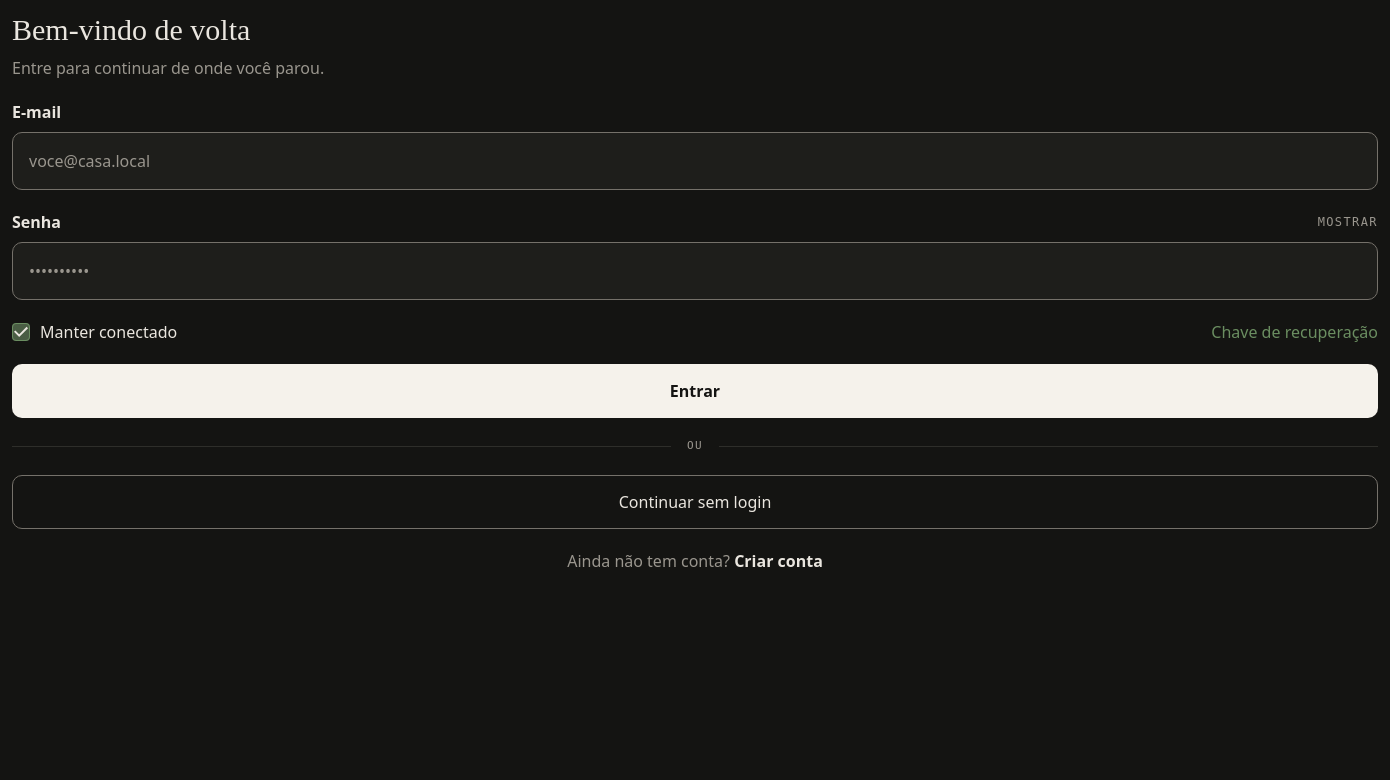
Test case: AuthForm — uso descuidado › o subtítulo só aparece quando pedido e acompanha o modo
The width and height of the screenshot is (1390, 780).
Expected: the text "Entre para continuar de onde você parou." is shown, [12,57,324,79]
Click the button "Criar conta" at (778, 560), box [734,548,823,572]
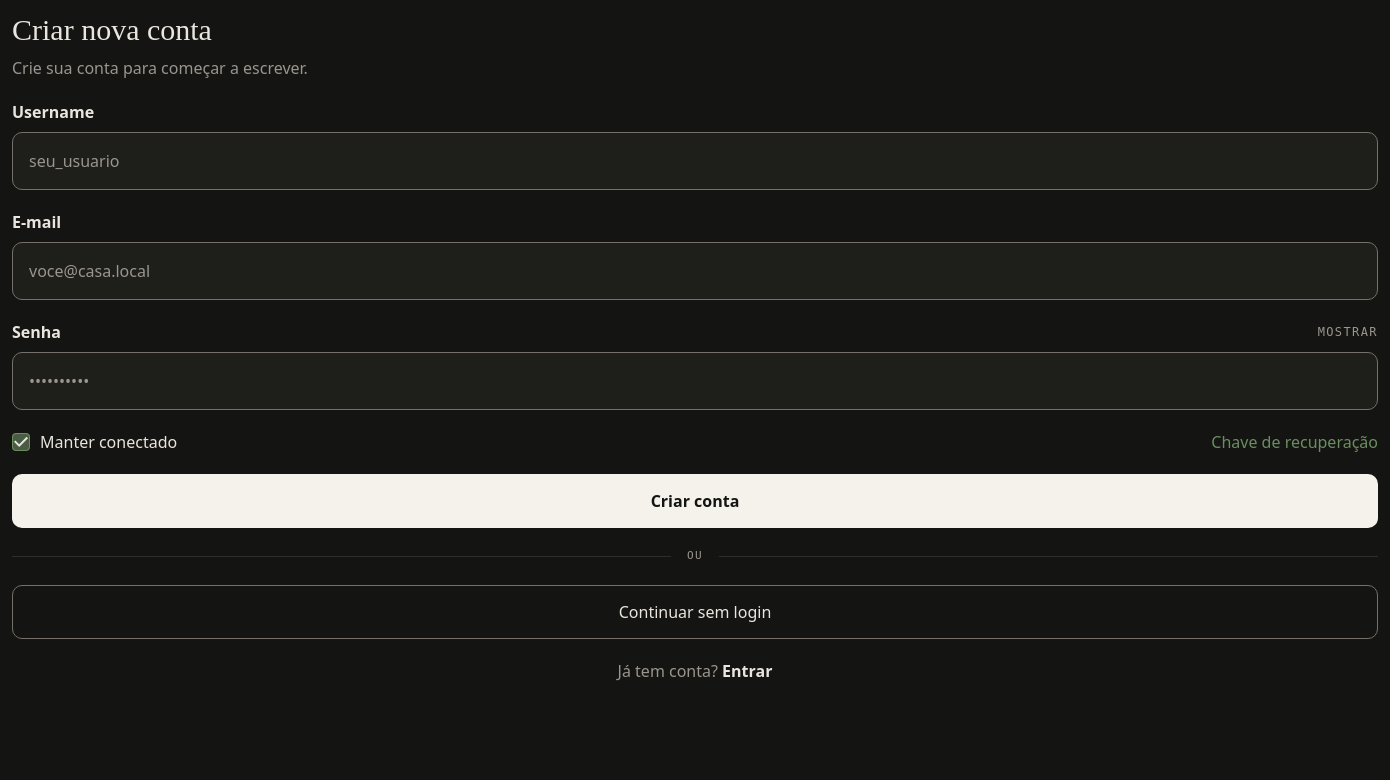
Result: the text "Crie sua conta para começar a escrever." is shown at [12,57,308,79]
